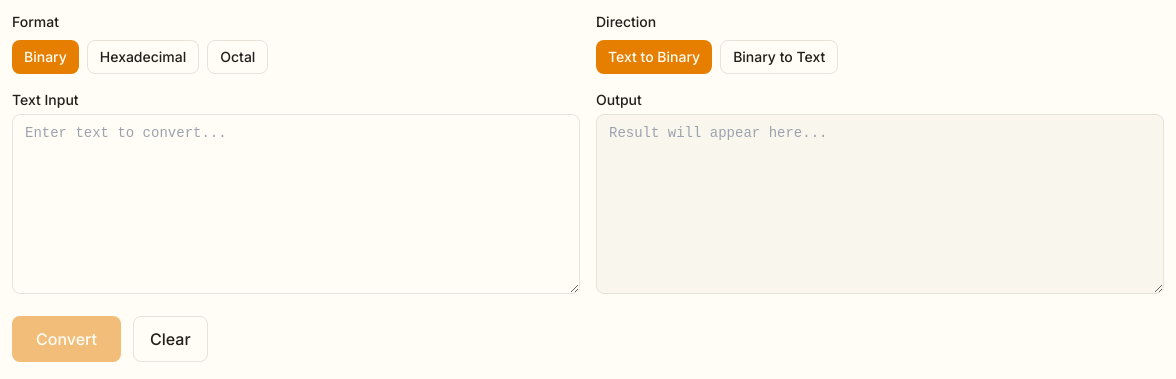
TextToBinary › converts text to binary
Type "Hi" into the text box named "Conversion input" at point(296, 204), box [12,114,580,294]
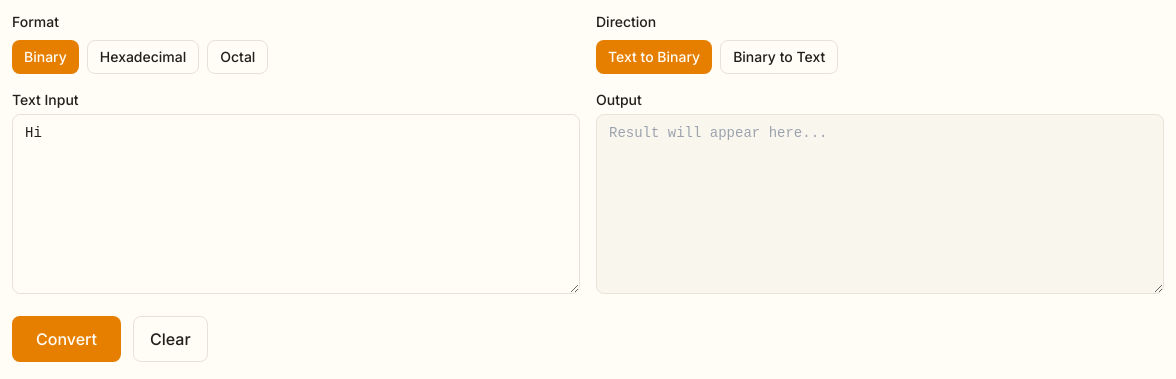
Click the button "Convert" at point(66, 339), box [12,316,121,362]
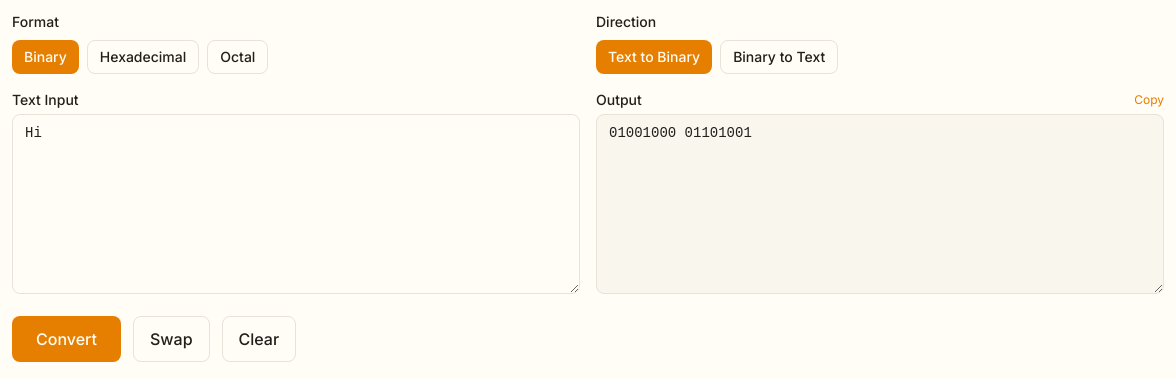
Now the text box named "Conversion output" holds "01001000 01101001", box [596,114,1164,294]
